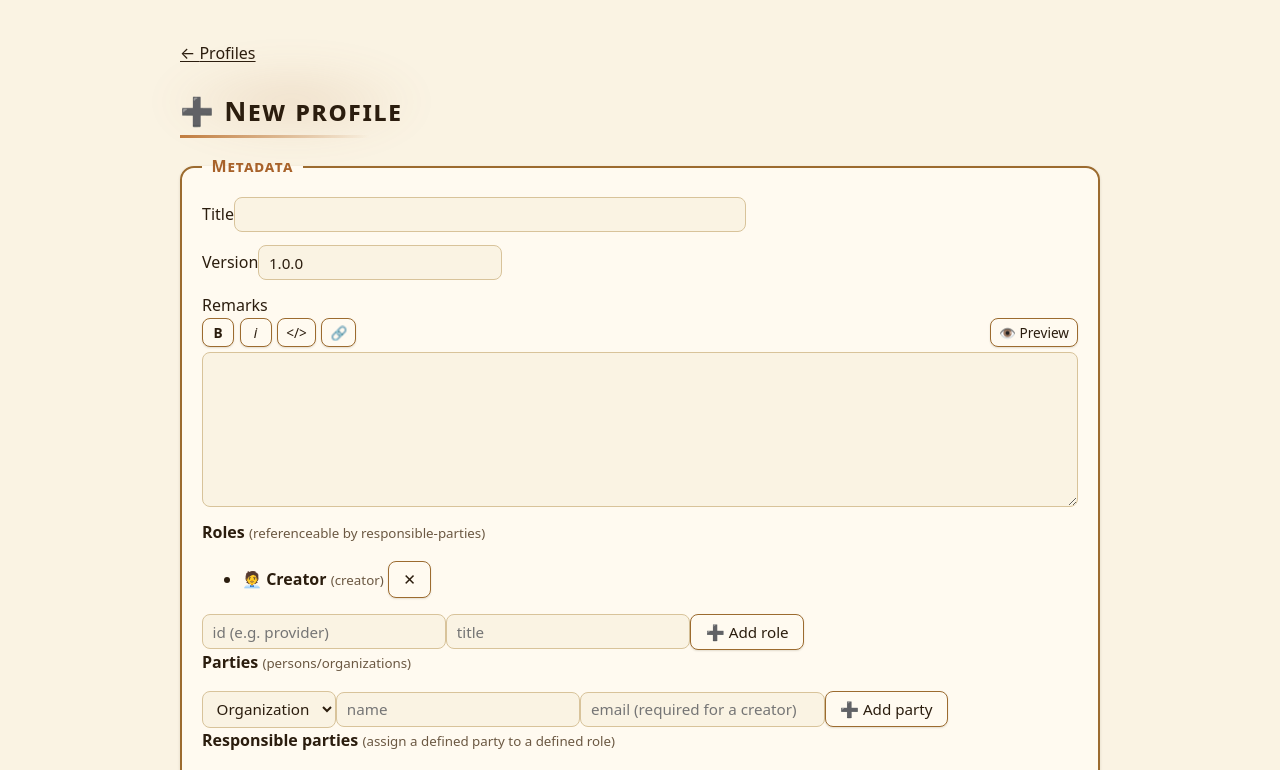
Test case: imports › shows a hint (doesn't crash) when a profile-sourced import's own chain has a dangling reference
In the field with test id "md-title": [490, 214] box 234,197 -> 746,232, type "My Profile"
(page scrolled)
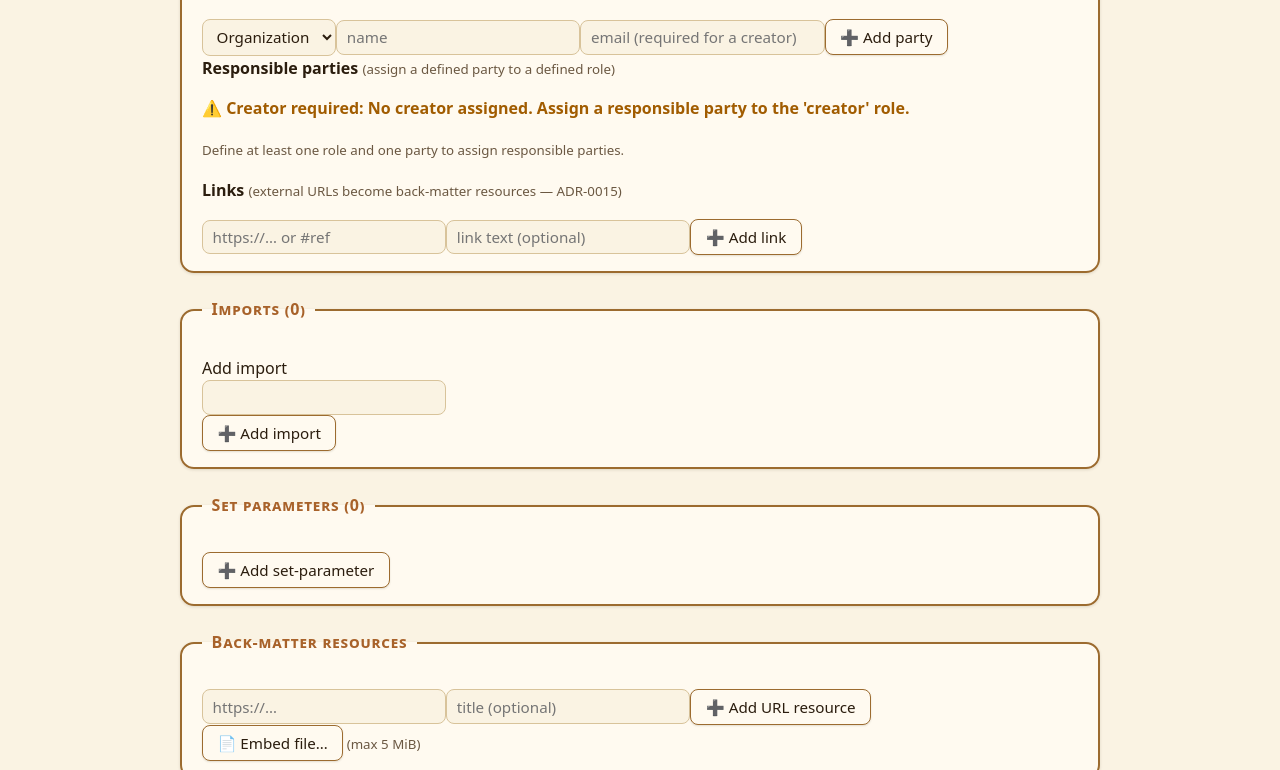
In the field with test id "profile-import-picker-input": [324, 398] box 202,380 -> 446,415, type "Broken"
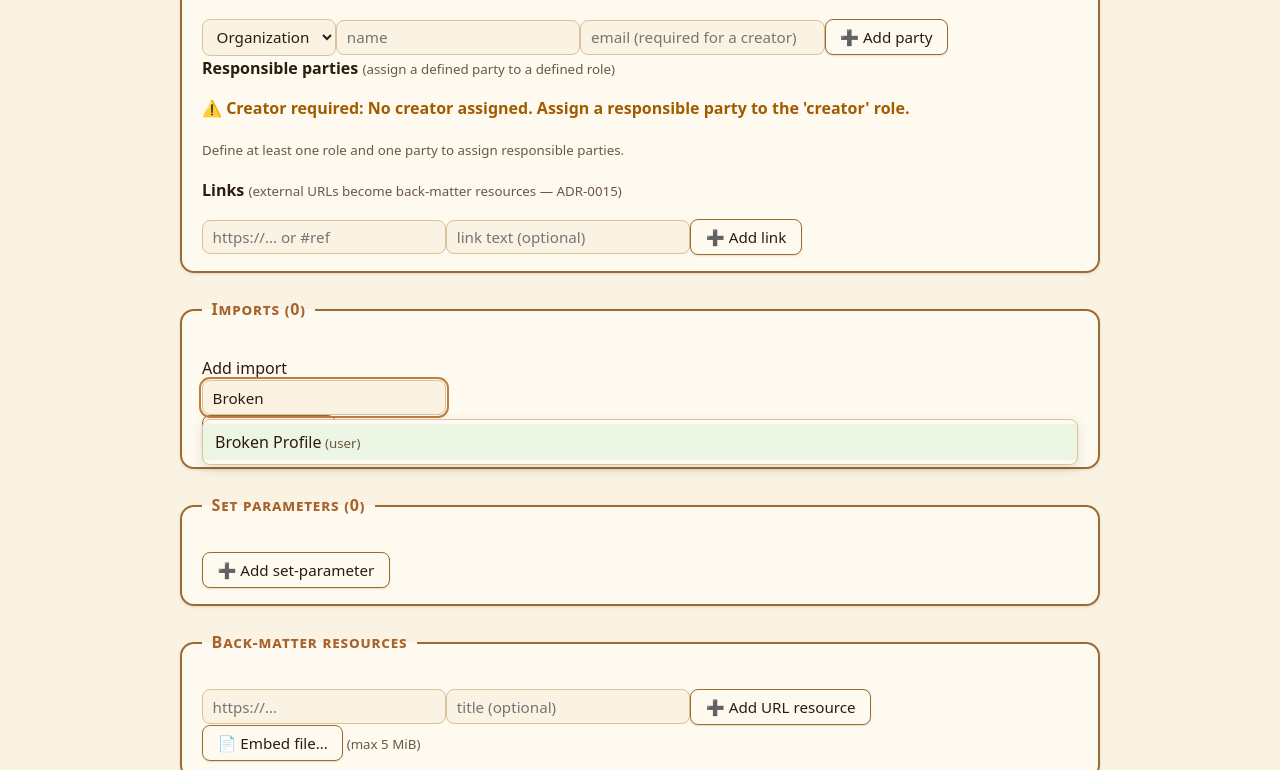
Click the list item "Broken Profile": [640, 442] box 203,424 -> 1077,460
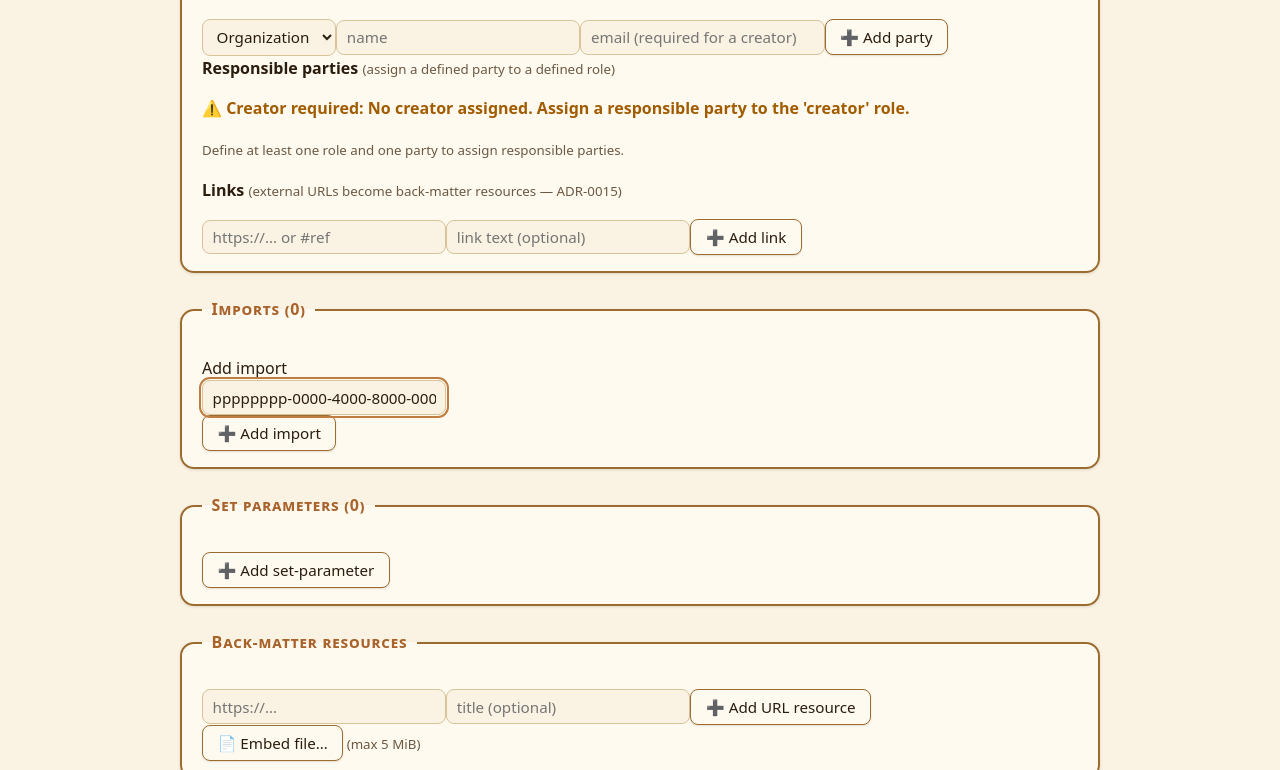
Click the button with test id "profile-import-add": [269, 433] box 202,415 -> 336,452
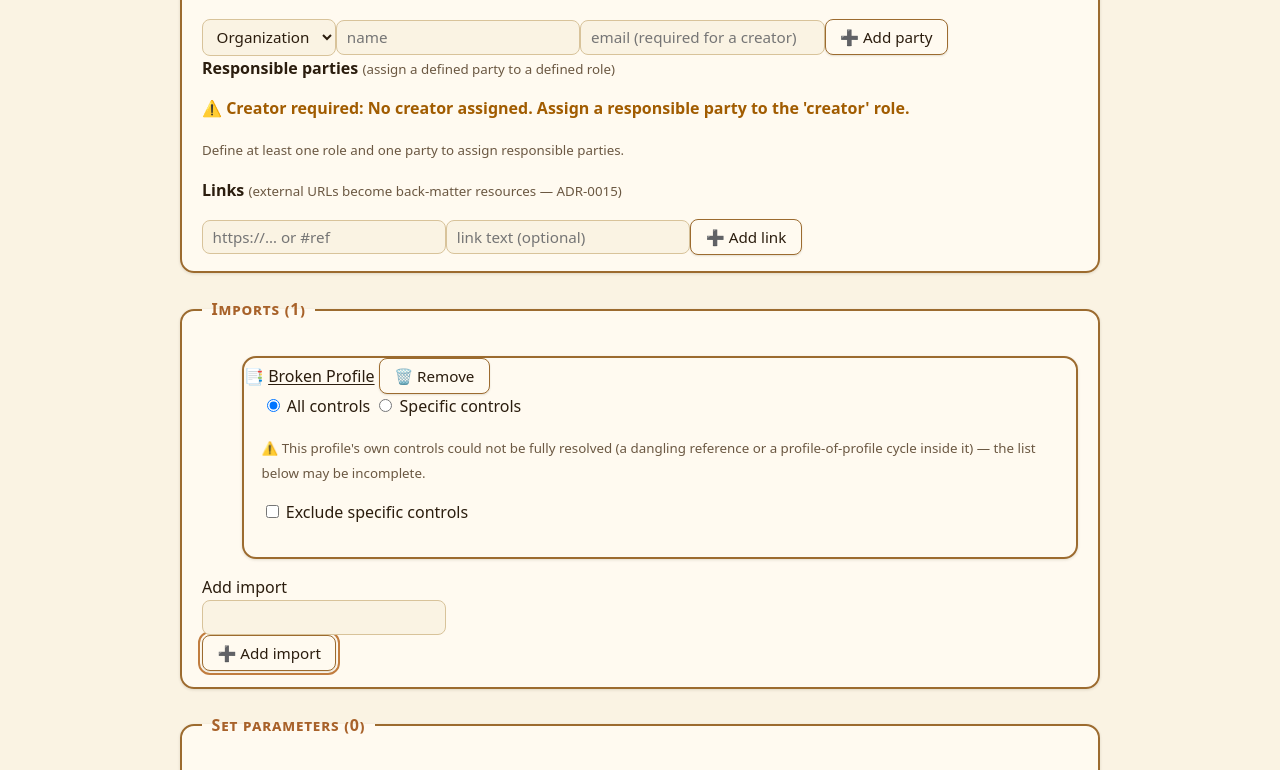
Expected: the element with test id "profile-import-source" is shown, 244,365 -> 375,387
Expected: the element with test id "profile-import-nested-unresolved-hint" is shown, 262,435 -> 1058,484
